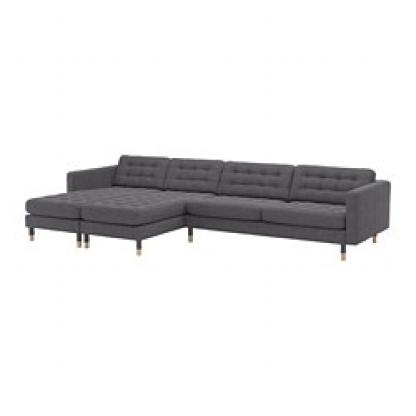Sofa: (16, 138, 392, 293)
